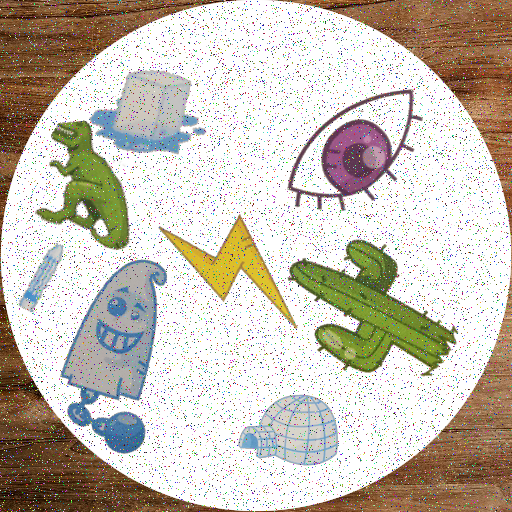cactus_icon: (275, 220, 467, 412)
cube_icon: (87, 43, 214, 170)
dino_icon: (31, 120, 163, 252)
eye_icon: (274, 67, 437, 230)
ghost_icon: (19, 250, 223, 454)
igloo_icon: (235, 383, 340, 488)
lightning_icon: (153, 192, 315, 354)
pen_icon: (6, 240, 80, 314)
